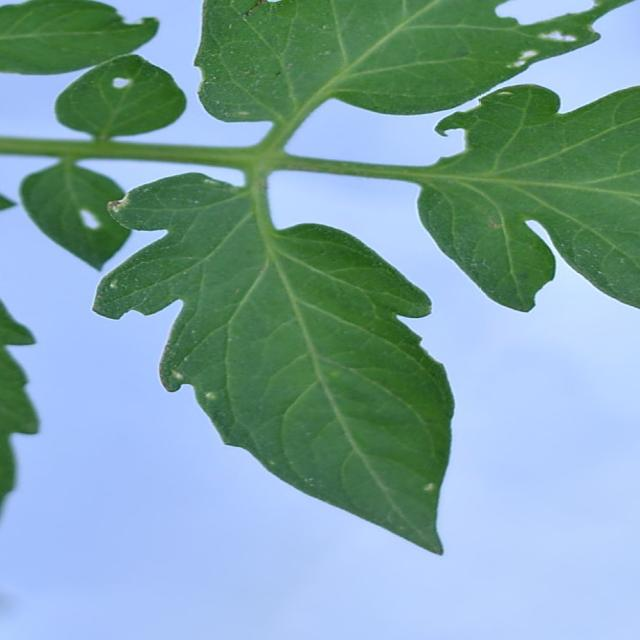healthy: (128, 168, 470, 561)
infected: (431, 0, 640, 80), (57, 71, 136, 235)
